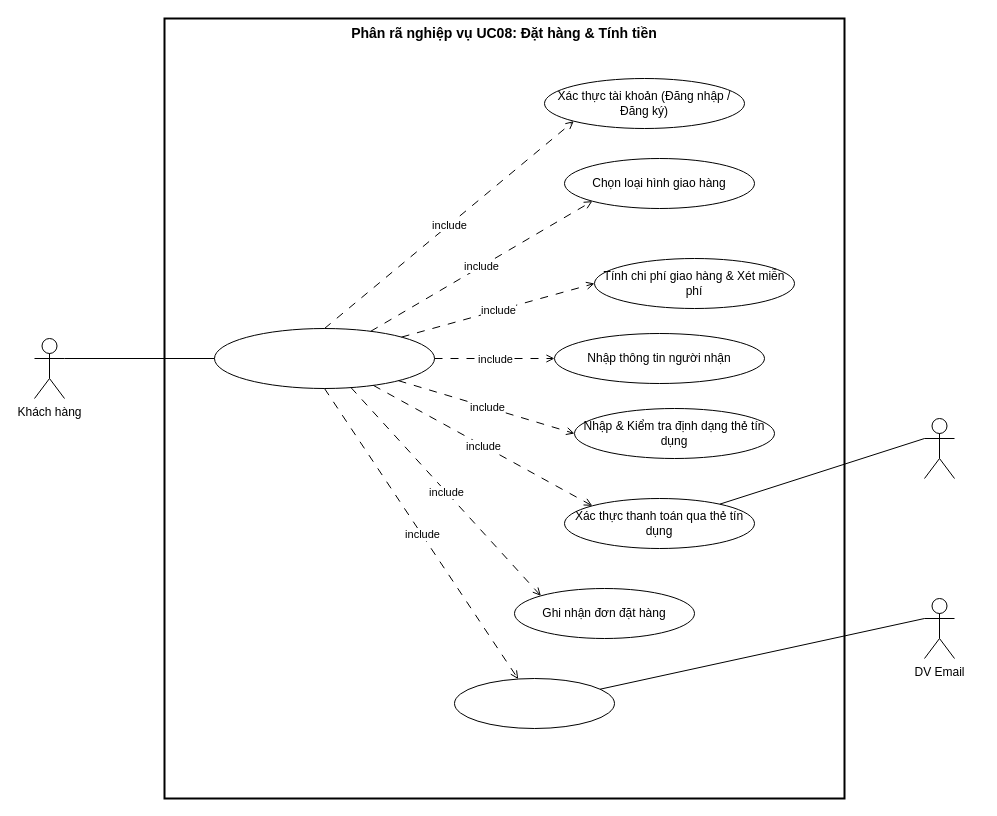
Some shapes in this 997 by 816 pixel diagram are drawn without their labels. Here are the shapes that lost their labels. From the top down, the centre of each, then its label:
point 324,358: UC08: Đặt hàng & Tính tiền
point 939,448: DV Thanh toán
point 534,703: Gửi email xác nhận đơn hàng
